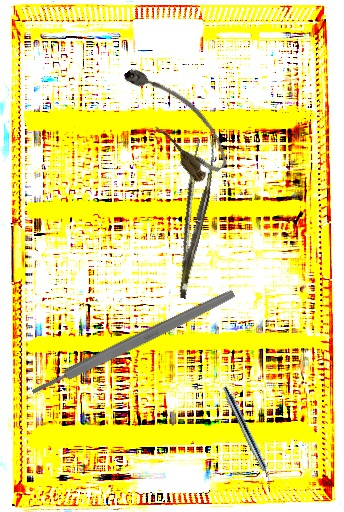Cannula: (115, 51, 237, 187)
Handpiece: (219, 385, 277, 489)
Scalpel Handle: (29, 287, 237, 398)
Tissue Forceps: (160, 139, 224, 299)
